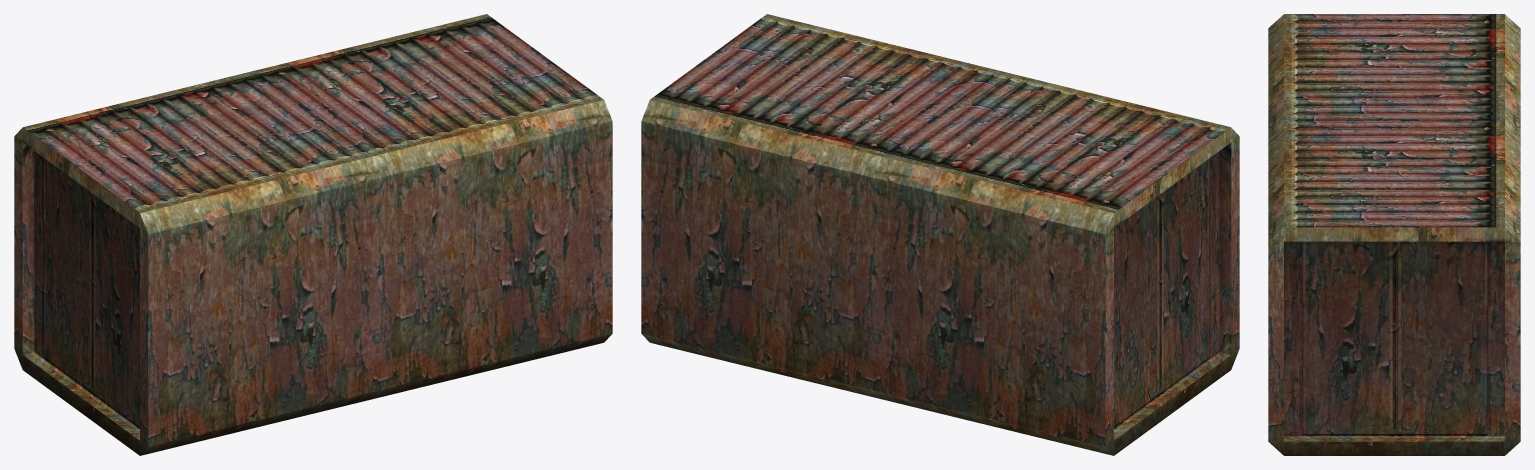
Rendered from M11_Crate_Big_Red02.glb.
3 renders of one model, left to right at view 1: azimuth 30°, elevation 25°; view 2: azimuth 150°, elevation 25°; view 3: azimuth 270°, elevation 25°, orthographic. The views are drawn at different scales.
Parts seen in each view (by area): view 1: M11_CRATE_BIG_RED02; view 2: M11_CRATE_BIG_RED02; view 3: M11_CRATE_BIG_RED02.
Part boxes in pixels (x1,y1,x2,y2): M11_CRATE_BIG_RED02: (14,14,612,455); M11_CRATE_BIG_RED02: (641,14,1239,455); M11_CRATE_BIG_RED02: (1268,14,1520,455).
Size of the model in its own units: 8 by 4 by 4.
Materials: 3 (3 with a texture image).
